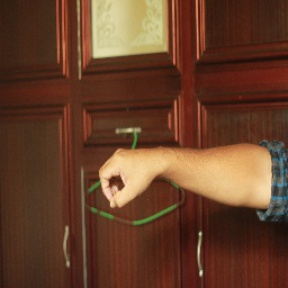O: (92, 142, 167, 208)
